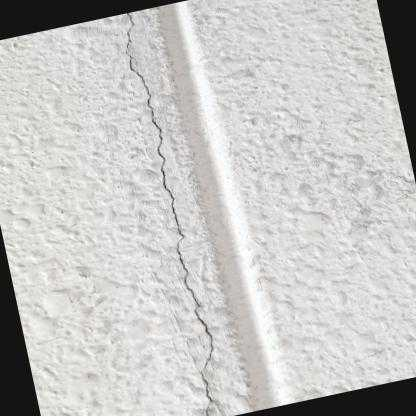crack: (124, 12, 214, 416)
